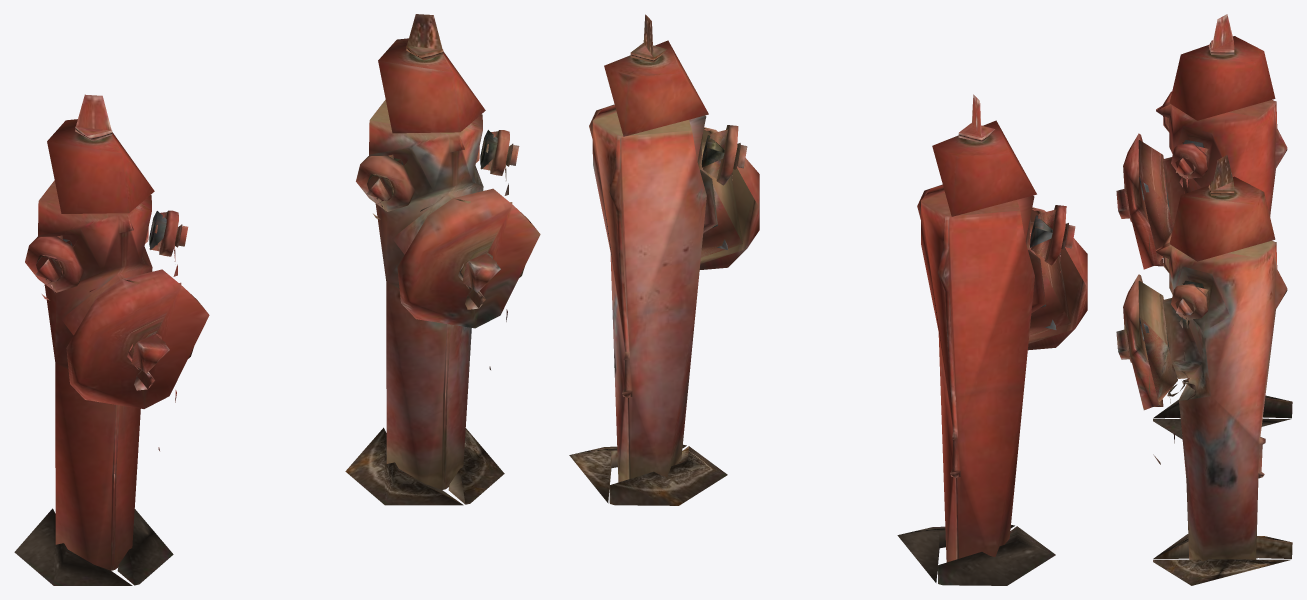
The model's file is fire_hydrant.glb.
The picture shows the model from 3 angles, left to right: view 1: azimuth 30°, elevation 25°; view 2: azimuth 150°, elevation 25°; view 3: azimuth 270°, elevation 25°; orthographic projection. The views are drawn at different scales.
Visible parts, largest first — view 1: fire_hydrant_aged, fire_hydrant, fire_hydrant_cap_01_aged, fire_hydrant_cap_01, fire_hydrant_cap_03, fire_hydrant_cap_03_aged, fire_hydrant_cap_02, fire_hydrant_cap_02_aged; view 2: fire_hydrant_aged, fire_hydrant, fire_hydrant_cap_01_aged, fire_hydrant_cap_01, fire_hydrant_cap_03_aged, fire_hydrant_cap_03; view 3: fire_hydrant_aged, fire_hydrant, fire_hydrant_cap_01, fire_hydrant_cap_01_aged, fire_hydrant_cap_02, fire_hydrant_cap_02_aged, fire_hydrant_chain_aged.
Part boxes in pixels (left/top/right/bottom): fire_hydrant_aged: left=345, top=14, right=512, bottom=505; fire_hydrant: left=14, top=94, right=181, bottom=585; fire_hydrant_cap_01_aged: left=397, top=188, right=540, bottom=328; fire_hydrant_cap_01: left=66, top=269, right=209, bottom=408; fire_hydrant_cap_03: left=25, top=236, right=83, bottom=292; fire_hydrant_cap_03_aged: left=356, top=155, right=415, bottom=211; fire_hydrant_cap_02: left=159, top=210, right=188, bottom=256; fire_hydrant_cap_02_aged: left=490, top=130, right=519, bottom=175; fire_hydrant_aged: left=569, top=14, right=742, bottom=505; fire_hydrant: left=897, top=94, right=1070, bottom=585; fire_hydrant_cap_01_aged: left=699, top=127, right=759, bottom=269; fire_hydrant_cap_01: left=1028, top=207, right=1087, bottom=350; fire_hydrant_cap_03_aged: left=716, top=125, right=747, bottom=185; fire_hydrant_cap_03: left=1044, top=205, right=1075, bottom=265; fire_hydrant_aged: left=1138, top=155, right=1292, bottom=585; fire_hydrant: left=1138, top=14, right=1292, bottom=439; fire_hydrant_cap_01: left=1116, top=133, right=1163, bottom=269; fire_hydrant_cap_01_aged: left=1116, top=274, right=1163, bottom=410; fire_hydrant_cap_02: left=1171, top=143, right=1207, bottom=178; fire_hydrant_cap_02_aged: left=1171, top=284, right=1207, bottom=319; fire_hydrant_chain_aged: left=1153, top=294, right=1196, bottom=464.
Bounding box in the file's own units: 0.8728 × 0.7992 × 0.3173.
2 materials, 2 textured.
